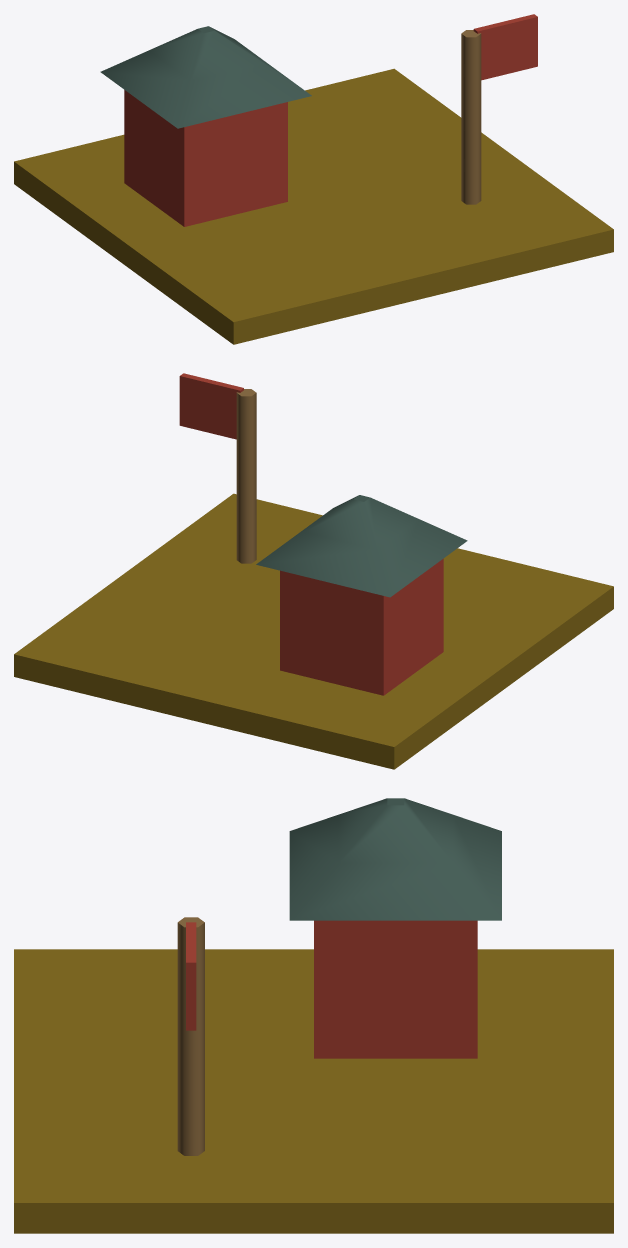
The model's file is shou_fu_qu.glb.
3 renders of one model, top to bottom at view 1: azimuth 30°, elevation 25°; view 2: azimuth 150°, elevation 25°; view 3: azimuth 270°, elevation 25°, orthographic. The views are drawn at different scales.
Parts seen in each view (by area): view 1: _MeshInstance3D_138, _MeshInstance3D_139, _MeshInstance3D_140, _MeshInstance3D_141, _MeshInstance3D_142; view 2: _MeshInstance3D_138, _MeshInstance3D_139, _MeshInstance3D_140, _MeshInstance3D_141, _MeshInstance3D_142; view 3: _MeshInstance3D_138, _MeshInstance3D_140, _MeshInstance3D_139, _MeshInstance3D_141, _MeshInstance3D_142.
Boxes of the visible parts, <box> form: _MeshInstance3D_138: <box>14,68,613,344</box>; _MeshInstance3D_139: <box>124,90,287,226</box>; _MeshInstance3D_140: <box>100,26,311,128</box>; _MeshInstance3D_141: <box>461,30,481,204</box>; _MeshInstance3D_142: <box>473,14,537,80</box>; _MeshInstance3D_138: <box>14,493,613,769</box>; _MeshInstance3D_139: <box>280,558,443,695</box>; _MeshInstance3D_140: <box>256,495,467,597</box>; _MeshInstance3D_141: <box>236,389,256,563</box>; _MeshInstance3D_142: <box>179,373,243,439</box>; _MeshInstance3D_138: <box>14,949,613,1233</box>; _MeshInstance3D_140: <box>289,798,501,920</box>; _MeshInstance3D_139: <box>314,920,477,1058</box>; _MeshInstance3D_141: <box>177,917,204,1155</box>; _MeshInstance3D_142: <box>186,922,196,1030</box>.
Bounding box in the file's own units: 0.88 × 0.425 × 0.88.
